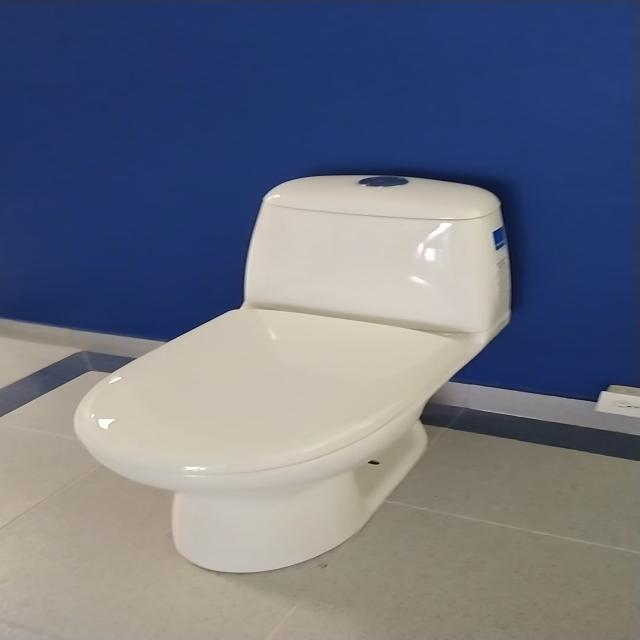toilet: (65, 168, 522, 577)
